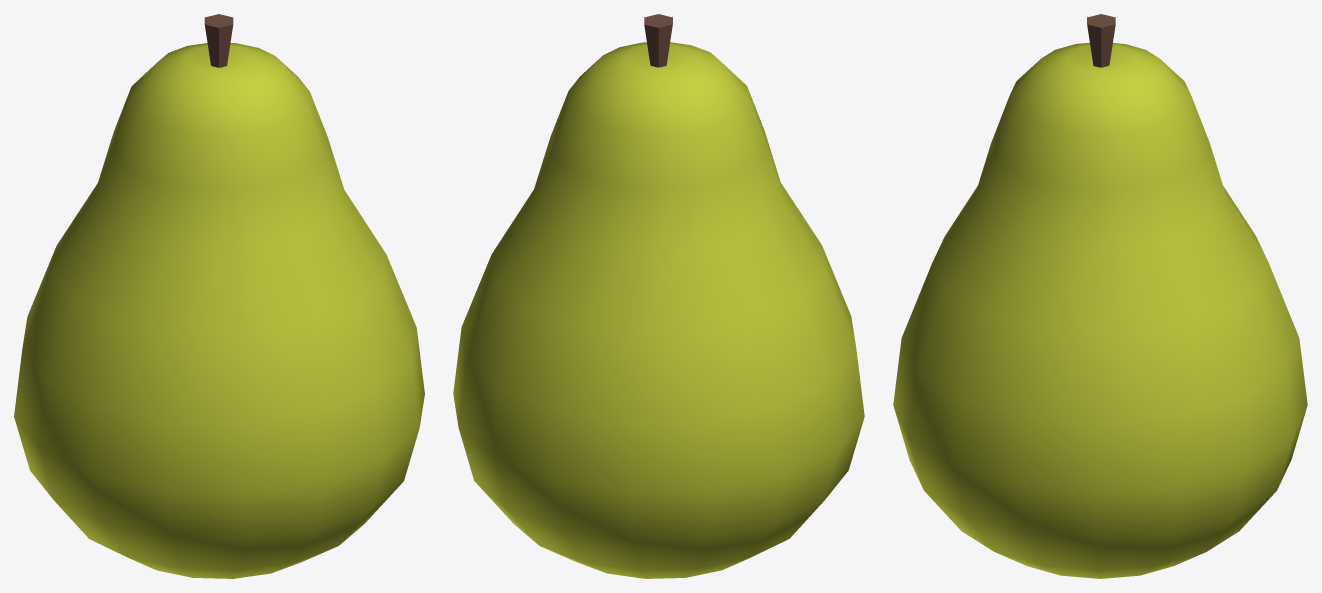
File: pear.fbx
The picture shows the model from 3 angles, left to right: view 1: azimuth 30°, elevation 25°; view 2: azimuth 150°, elevation 25°; view 3: azimuth 270°, elevation 25°; orthographic projection.
Visible parts, largest first — view 1: pear; view 2: pear; view 3: pear.
Boxes of the visible parts, x1,y1,x2,y2 form: pear: (14,14,424,578); pear: (453,14,864,578); pear: (893,14,1307,578).
Bounding box in the file's own units: 235 × 327 × 235.
